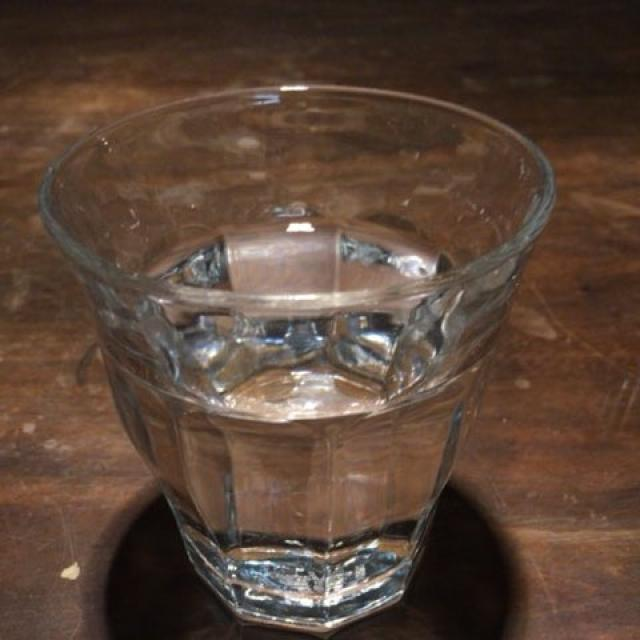water: (111, 216, 486, 614)
